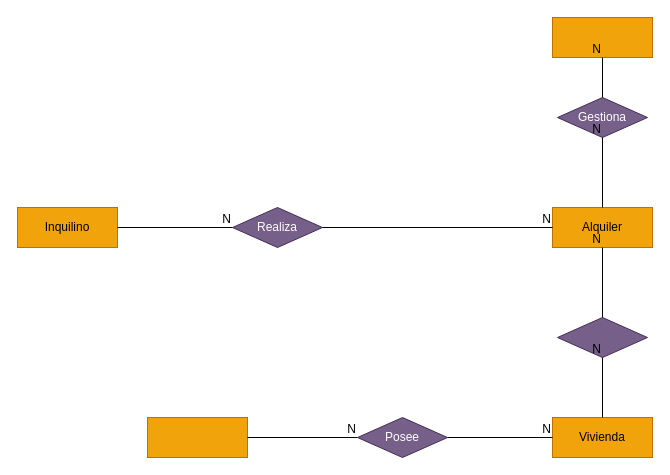
Image size: 670x475. Some labels were removed from this diagram. Each missing label, with the centre of its shape:
Agencia: pixel 602 37
Propietario: pixel 197 437
Tiene: pixel 602 337
